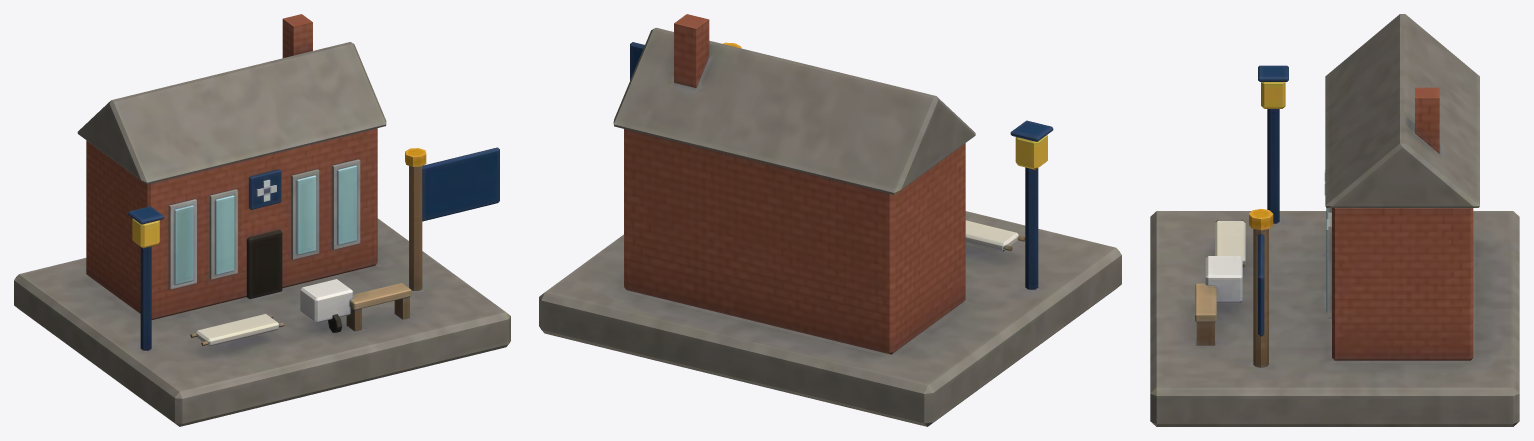
File: infirmary-10.glb
3 views of the same model, side by side, from view 1: azimuth 30°, elevation 25°; view 2: azimuth 150°, elevation 25°; view 3: azimuth 270°, elevation 25° (orthographic). The views are drawn at different scales.
Visible parts, largest first — view 1: infirmary-10; view 2: infirmary-10; view 3: infirmary-10.
Boxes of the visible parts, box(x1,y1,x2,y2) form: infirmary-10: box(14, 14, 510, 426); infirmary-10: box(539, 14, 1121, 426); infirmary-10: box(1150, 14, 1519, 426).
Bounding box in the file's own units: 1.55 × 1.03 × 1.2.
1 material, 1 textured.
